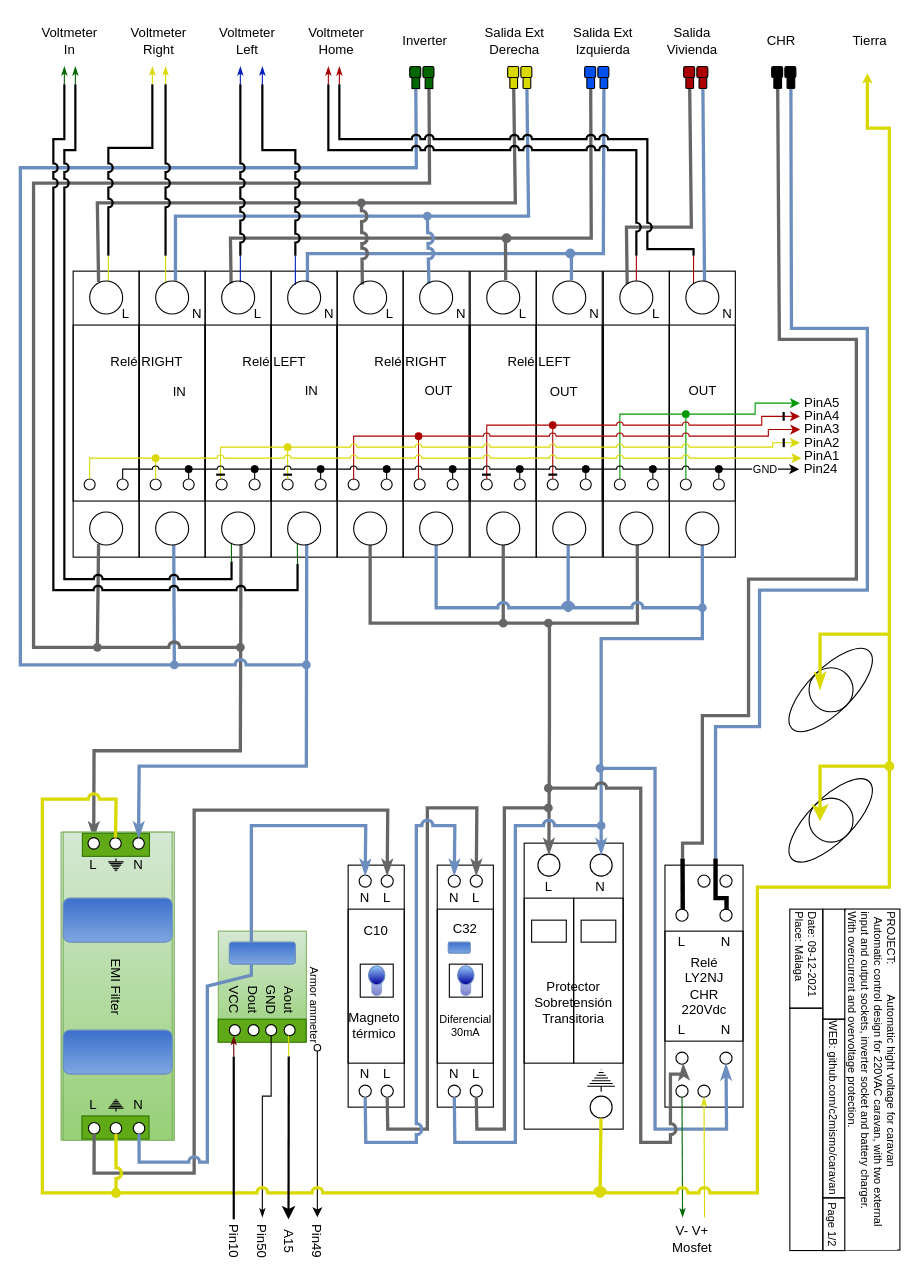
Some shapes in this 920 by 1282 pixel diagram are drawn without their labels. Here are the shapes that lost their labels. From the top down, the centre of each, then its label:
At point (635, 412): "Relé IN".
At point (833, 963): "Developer: c2mismo".
At point (806, 1129): "License: GNU GPL3 https://www.gnu.org/licenses/gpl.html".
